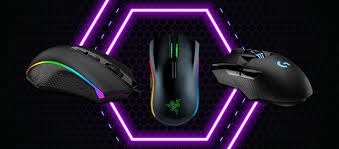mouse: (14, 38, 144, 113), (141, 32, 207, 133), (207, 47, 320, 105)
